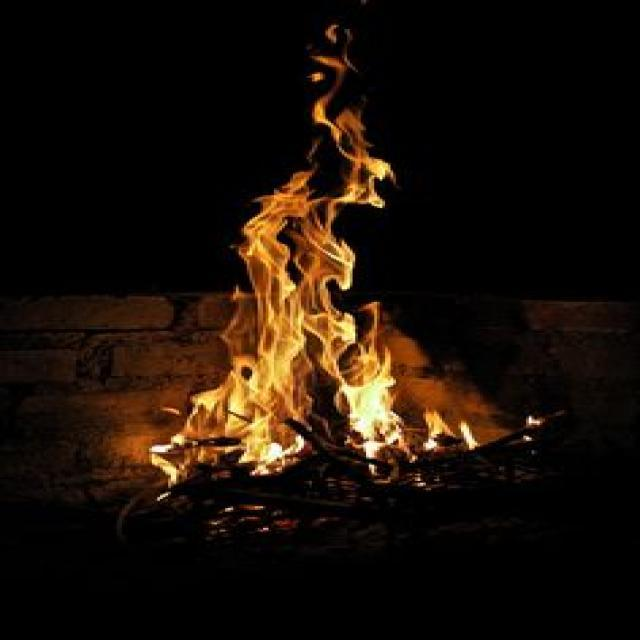Fire: (172, 51, 414, 466)
